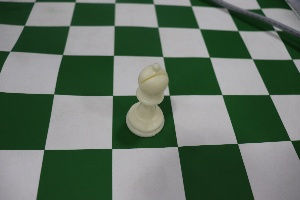white_bishop: (123, 45, 166, 146)
